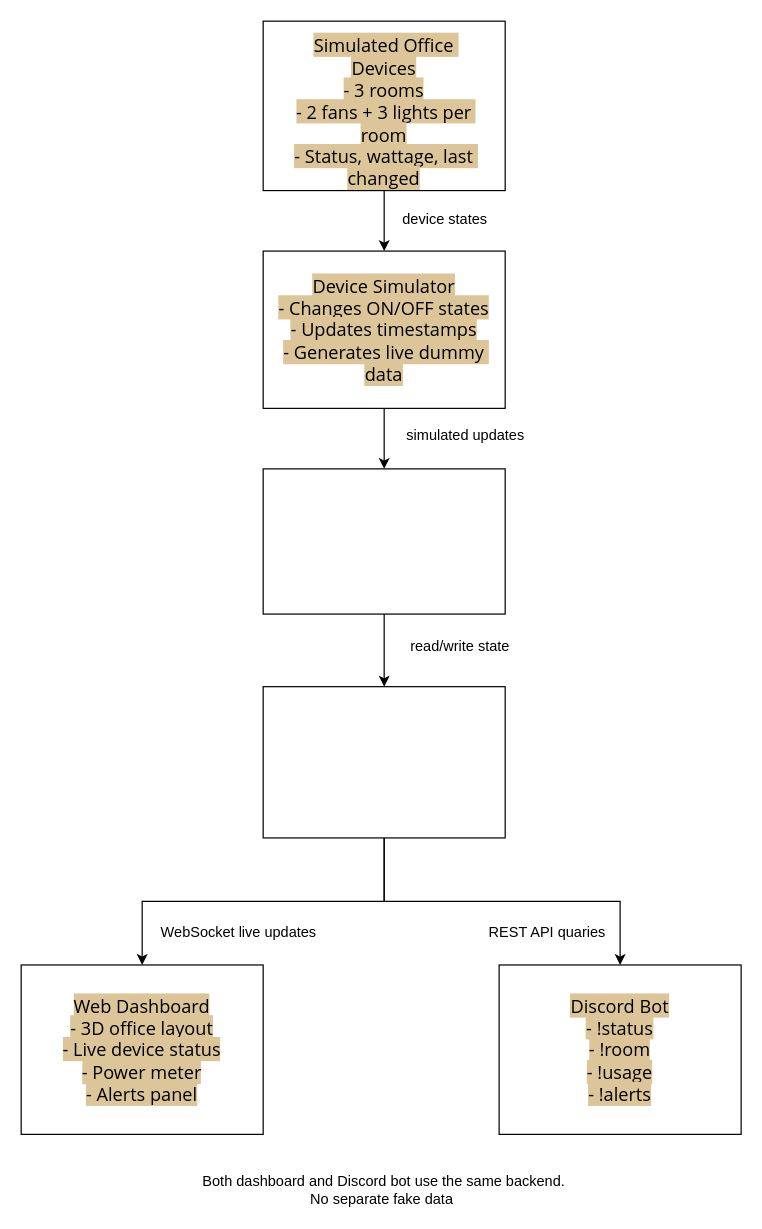
The diagram is 762 pixels wide and 1229 high, and some of its shapes have lost their labels. Here are the shapes that lost their labels. From the top down, the box of each, then its label:
(262, 468, 505, 614): FastAPI Backend - REST API - WebSocket - Power calculation - Alert engine
(262, 685, 505, 838): Shared State Store Single Source of Truth - Devices - Usage - Alerts
